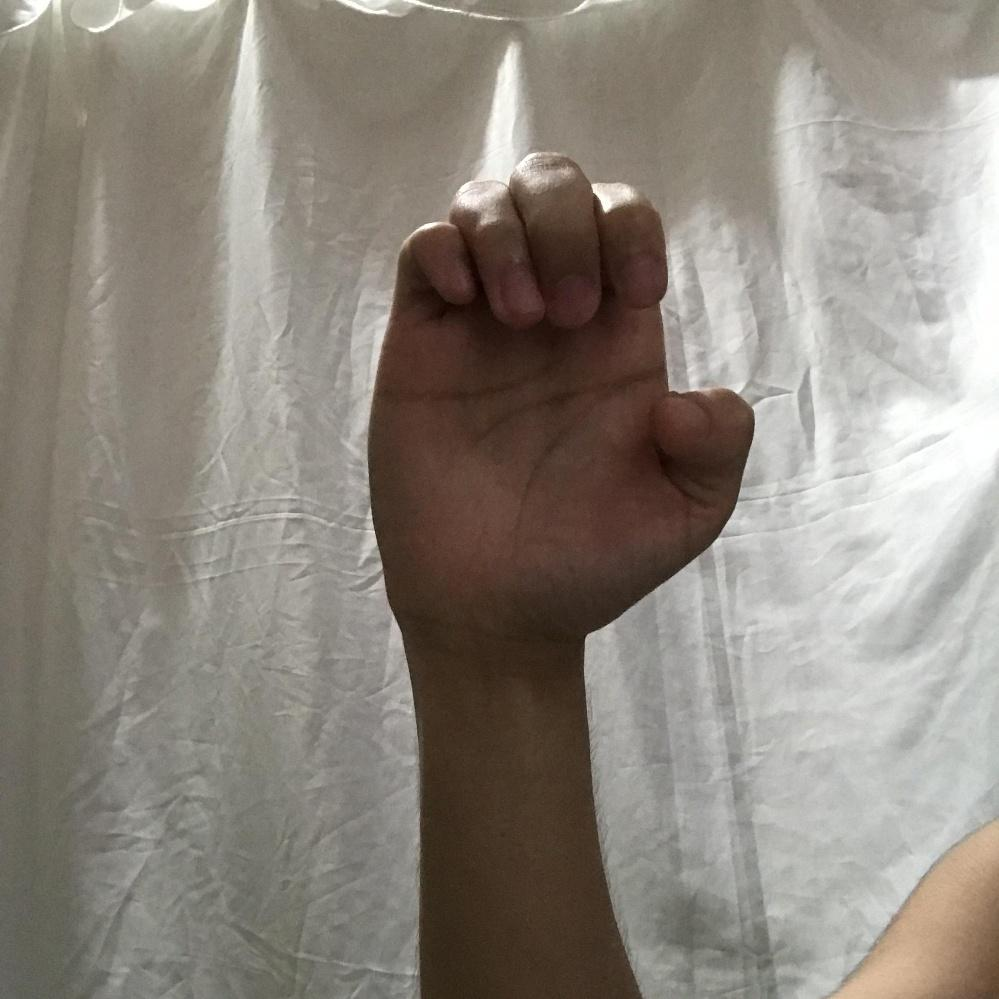e: (368, 149, 755, 635)
